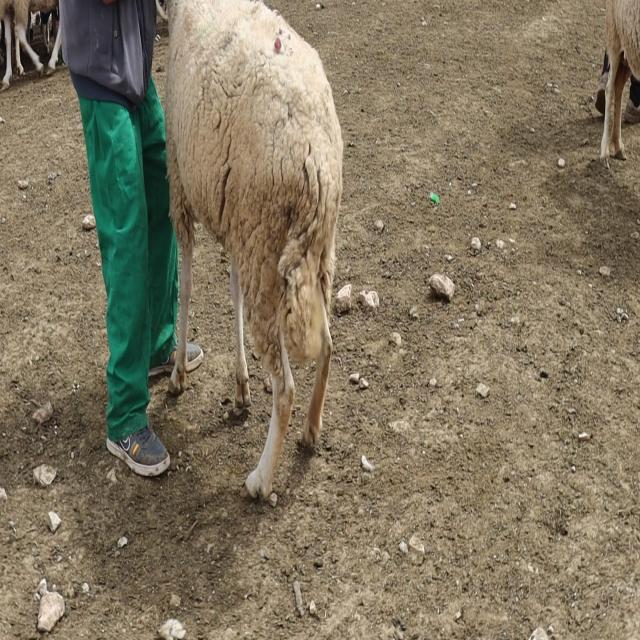Score_1: (164, 0, 343, 498)
